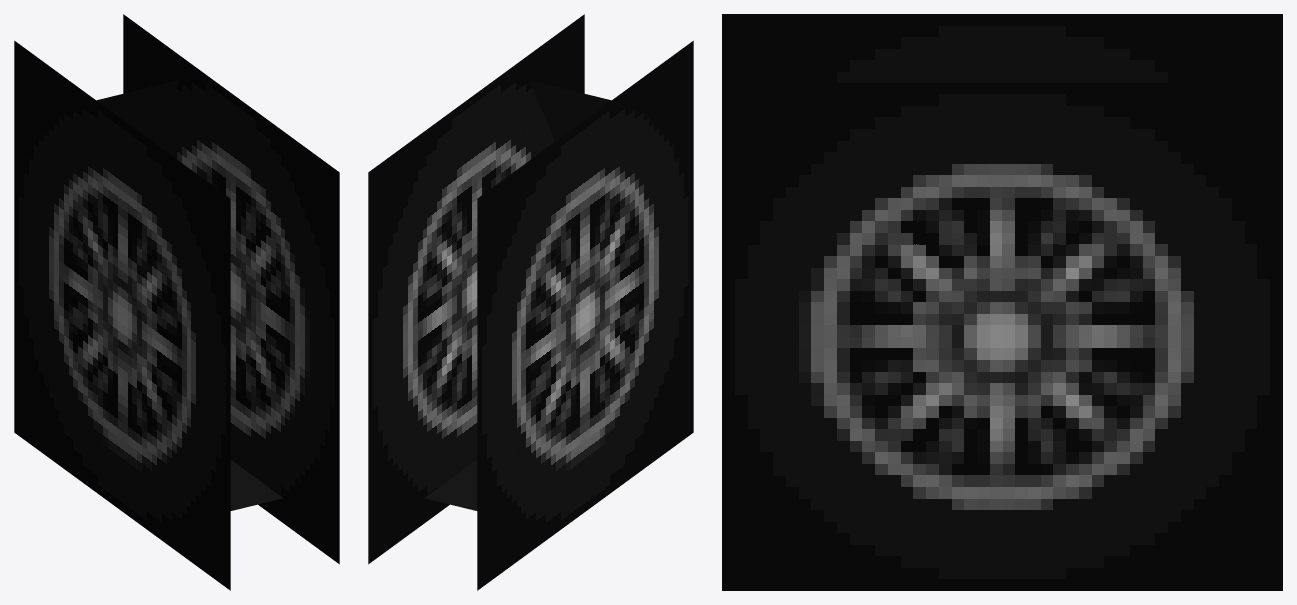
The picture shows the model from 3 angles, left to right: view 1: azimuth 30°, elevation 25°; view 2: azimuth 150°, elevation 25°; view 3: azimuth 270°, elevation 25°; orthographic projection. The views are drawn at different scales.
Visible parts, largest first — view 1: prim138-Cylinder01; view 2: prim138-Cylinder01; view 3: prim138-Cylinder01.
Part boxes in pixels (<box>): prim138-Cylinder01: <box>14,14,339,590</box>; prim138-Cylinder01: <box>368,14,693,590</box>; prim138-Cylinder01: <box>722,14,1282,590</box>.
Bounding box in the file's own units: 18 × 62 × 62.
Materials: 1 (1 with a texture image).
